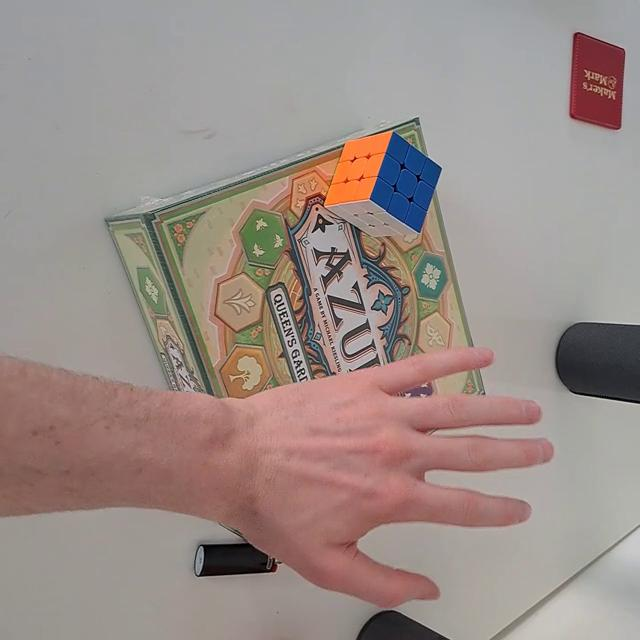rubix_cube: (322, 128, 444, 240)
